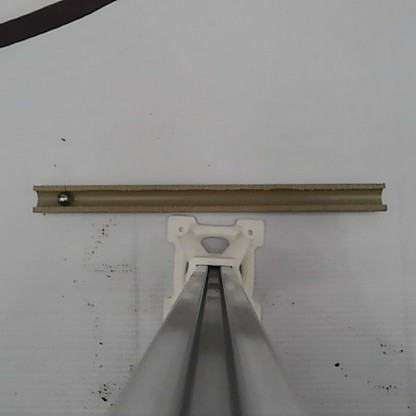ironball: (55, 189, 72, 205)
